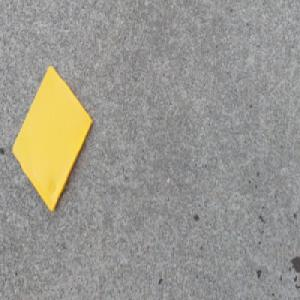PlasticPart: (8, 59, 93, 212)
